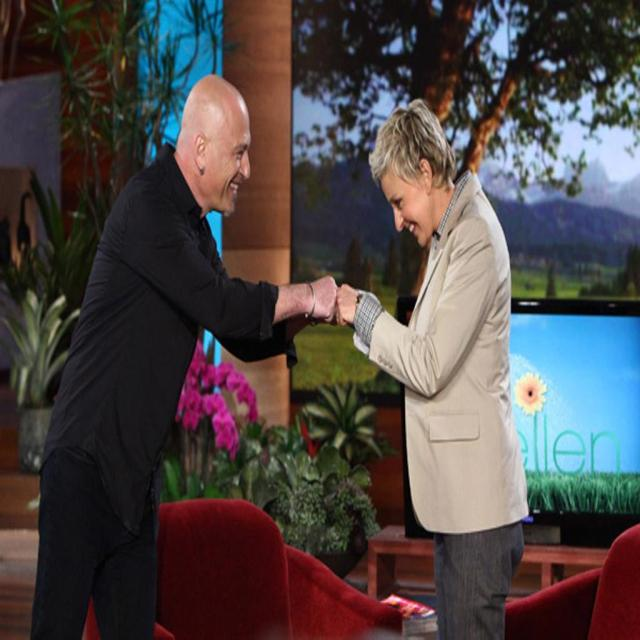Face: (204, 96, 256, 226), (382, 149, 451, 239)
